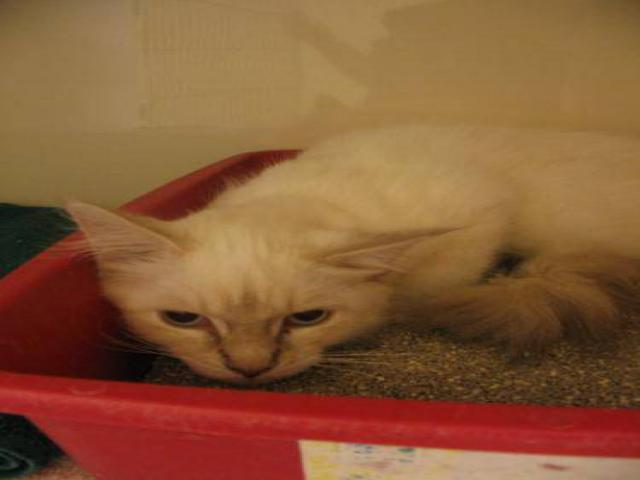cat: (80, 124, 639, 392)
